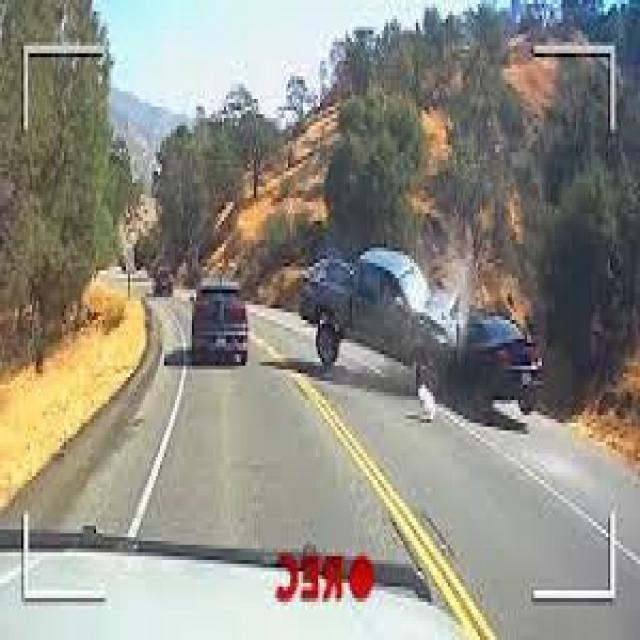multiple_accident: (297, 217, 549, 424)
